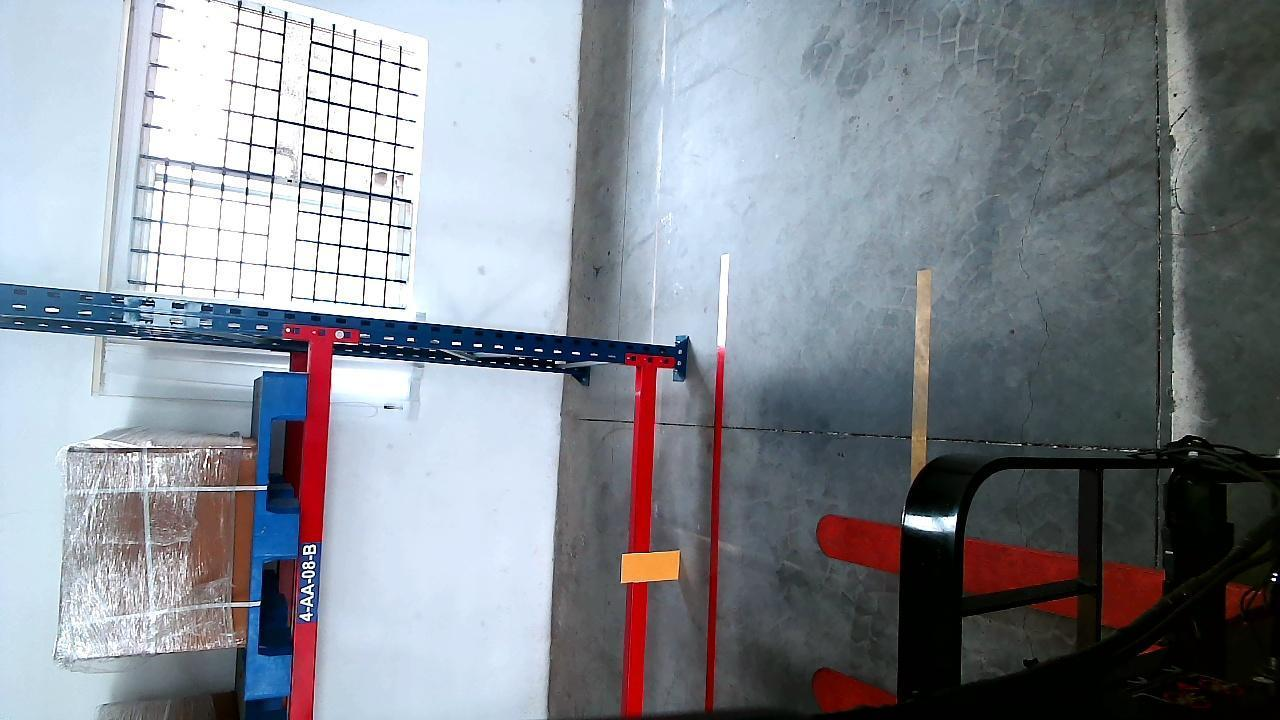h_rack: (294, 342, 336, 715), (629, 359, 658, 711)
orange_strip: (623, 551, 680, 582)
red_line: (700, 264, 732, 720)
small_pallet: (244, 370, 306, 706)
yellow_line: (909, 264, 930, 474)
